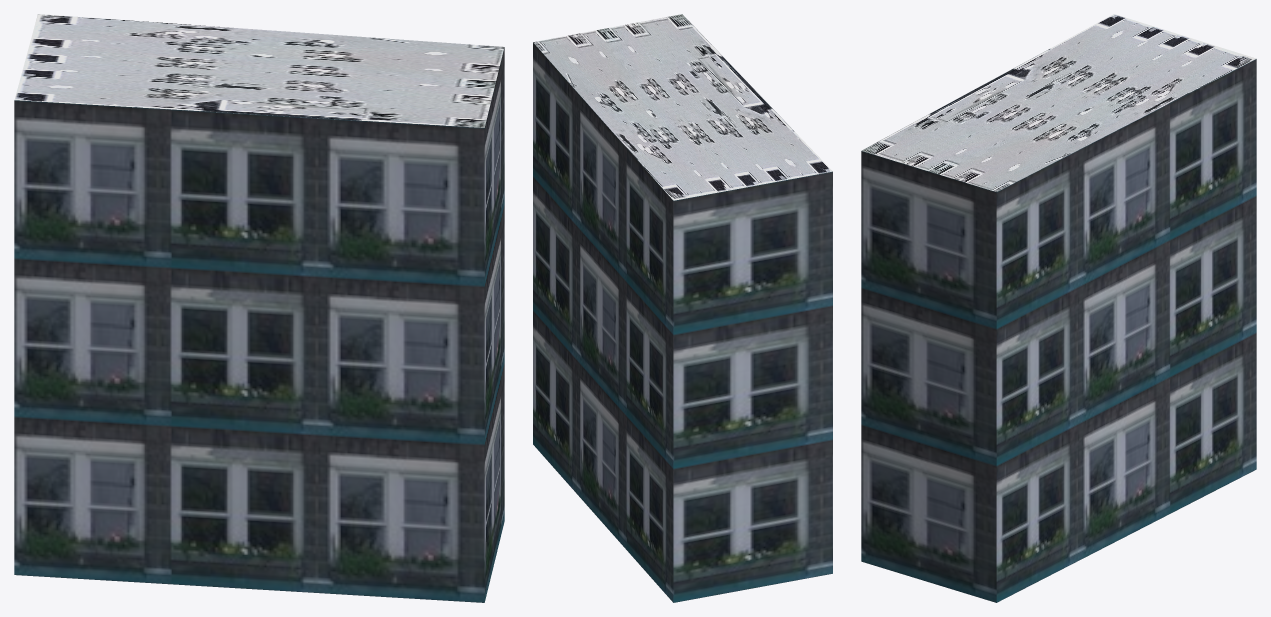
The model's file is ResTex__2969.fbx.
3 renders of one model, left to right at view 1: azimuth 30°, elevation 25°; view 2: azimuth 150°, elevation 25°; view 3: azimuth 270°, elevation 25°, orthographic. The views are drawn at different scales.
Parts seen in each view (by area): view 1: CityEngineMaterial_11_m, CityEngineMaterial_m; view 2: CityEngineMaterial_11_m, CityEngineMaterial_m; view 3: CityEngineMaterial_11_m, CityEngineMaterial_m.
Part boxes in pixels (bbox=[...]): CityEngineMaterial_11_m: bbox=[14, 47, 504, 602]; CityEngineMaterial_m: bbox=[14, 14, 504, 127]; CityEngineMaterial_11_m: bbox=[533, 42, 832, 602]; CityEngineMaterial_m: bbox=[533, 14, 832, 200]; CityEngineMaterial_11_m: bbox=[861, 59, 1256, 602]; CityEngineMaterial_m: bbox=[861, 14, 1256, 191].
Size of the model in its own units: 8.37 by 9 by 7.85.
Materials: 2 (2 with a texture image).
